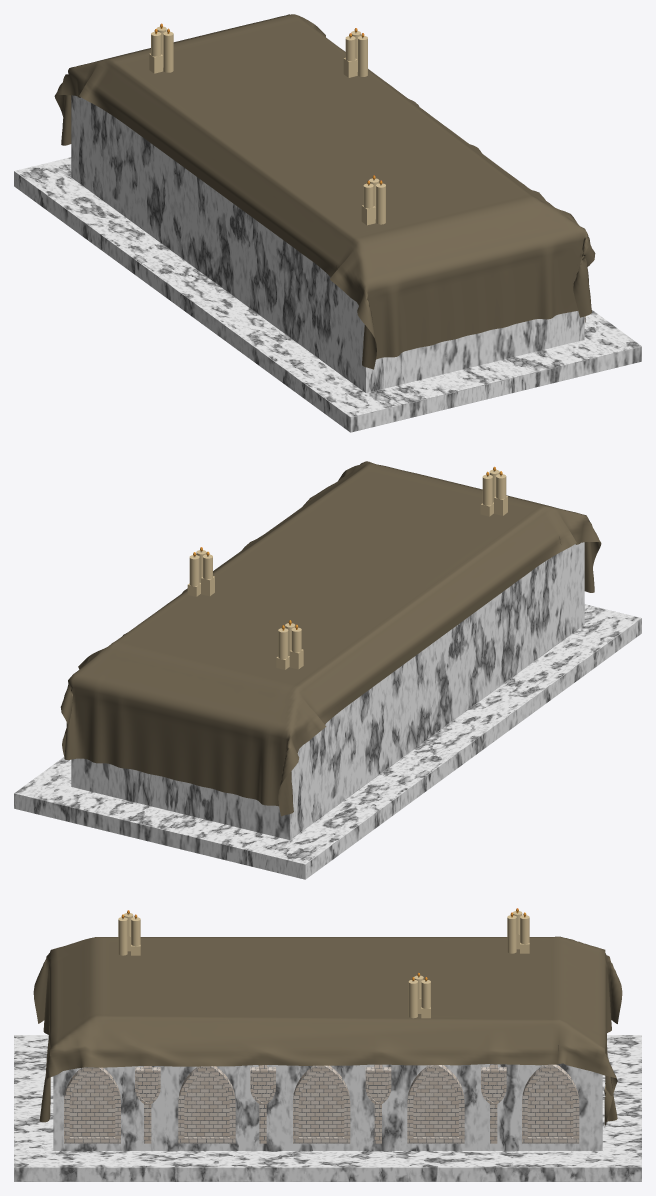
File: autel.fbx
The picture shows the model from 3 angles, top to bottom: view 1: azimuth 30°, elevation 25°; view 2: azimuth 150°, elevation 25°; view 3: azimuth 270°, elevation 25°; orthographic projection. The views are drawn at different scales.
Visible parts, largest first — view 1: Nappe, Autelk, Candles; view 2: Nappe, Autelk, Candles; view 3: Nappe, Autelk, AutelDeco, Candles.
Boxes of the visible parts, x1,y1,x2,y2 form: Nappe: [54, 14, 595, 369]; Autelk: [14, 95, 641, 432]; Candles: [149, 23, 385, 225]; Nappe: [60, 461, 601, 816]; Autelk: [14, 542, 641, 879]; Candles: [187, 466, 507, 669]; Nappe: [33, 936, 622, 1125]; Autelk: [14, 1035, 641, 1181]; AutelDeco: [64, 1064, 579, 1143]; Candles: [118, 908, 529, 1018].
Size of the model in its own units: 400 by 247 by 800.
Materials: 5 (5 with a texture image).
